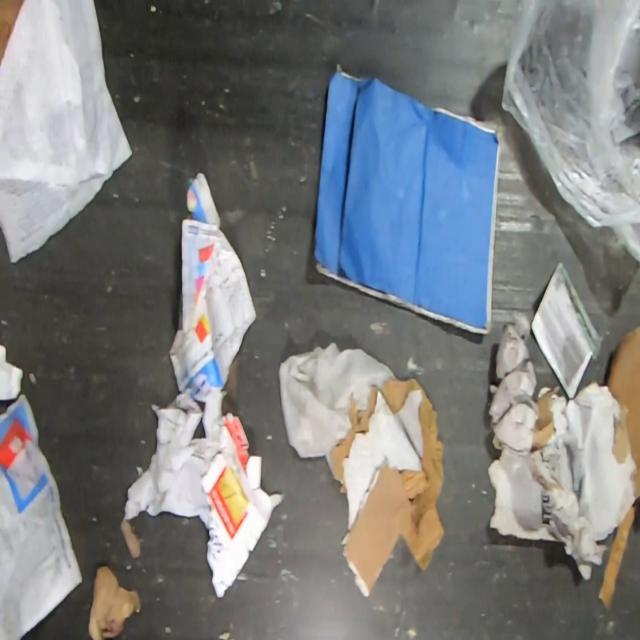cardboard: (309, 58, 507, 341), (528, 325, 640, 612), (329, 376, 445, 598), (0, 0, 26, 73)
soft_plastic: (498, 0, 639, 275)
